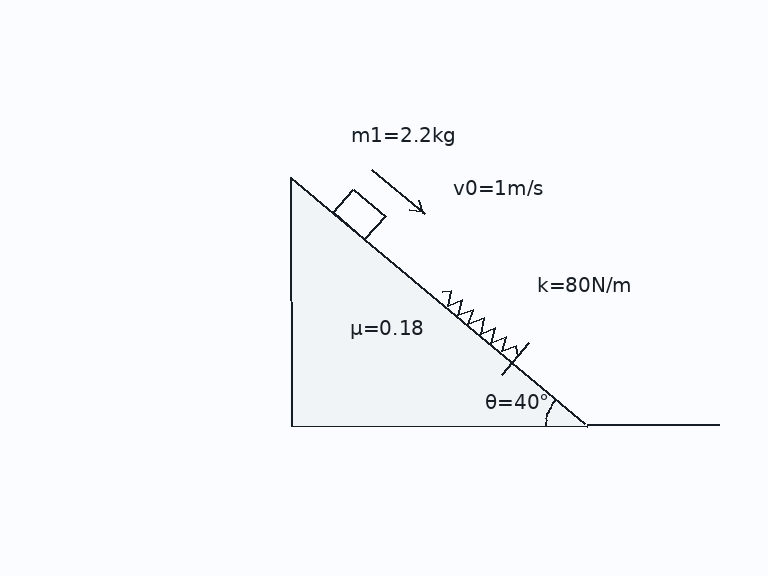block: (331, 187, 387, 242)
ramp: (288, 175, 588, 427)
spring: (439, 289, 520, 358)
